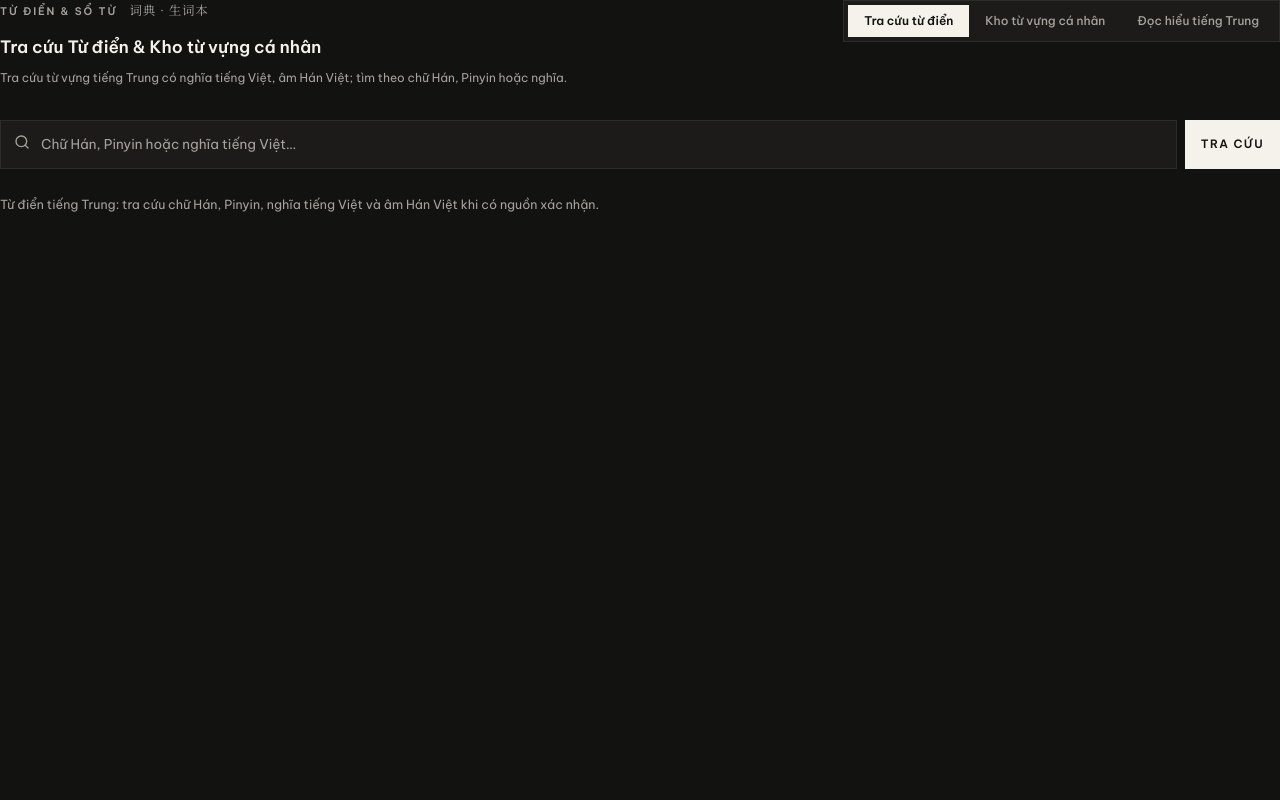
v2.1 EdTech UX & Stability Improvements › 2. DictionaryNotebookView Deep Link & Contextual Reading Interactivity › clicking vocabulary in contextual reading opens interactive popover card
The image size is (1280, 800).
Switch to Reading tab
What coordinates should you click on to do the following:
click the button "Đọc hiểu tiếng Trung"
I would click on:
 (1198, 21)
Its box is [1121,5,1275,37].
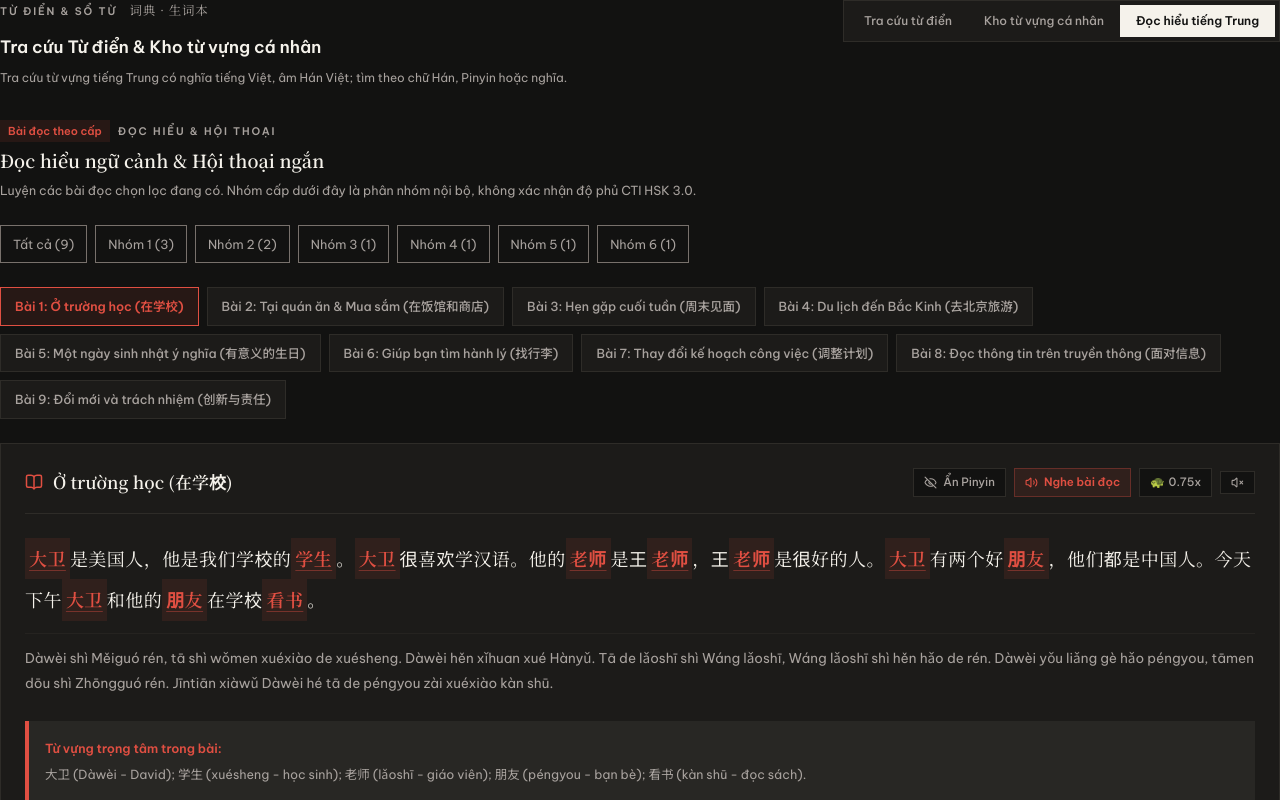
expect the heading "Ở trường học (在学校)" is shown: met, box [53,468,232,496]
expect the button named "Tra nhanh từ \"学生\"" is shown: met
What coordinates should you click on to do the following:
click the button named "Tra nhanh từ \"学生\""
I would click on:
 (314, 559)
Its box is [291,538,336,579].
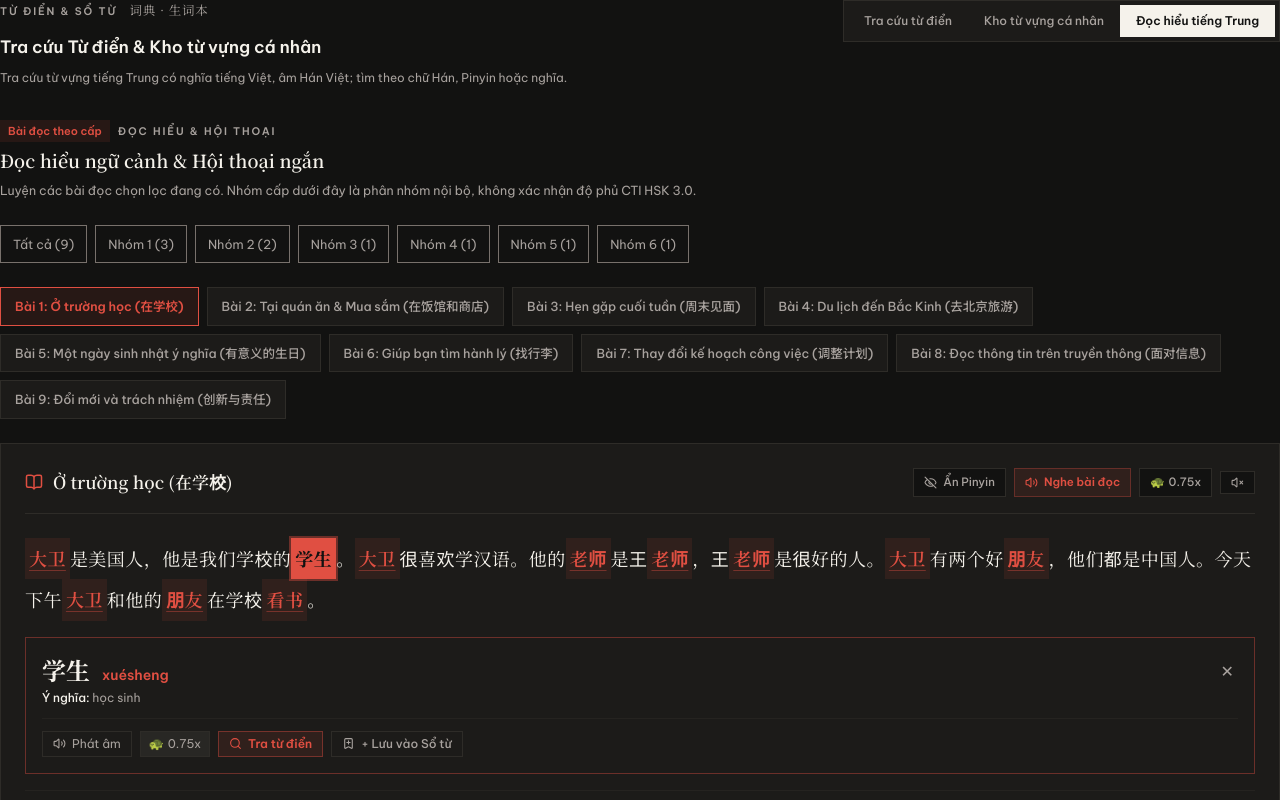
expect the element with test id "interactive-word-popover" is shown: met, box [25,637,1255,774]
expect the element with test id "interactive-word-popover" shows "xuésheng": met, box [102,666,168,684]
expect the element with test id "interactive-word-popover" shows "học sinh": met, box [92,690,140,705]
